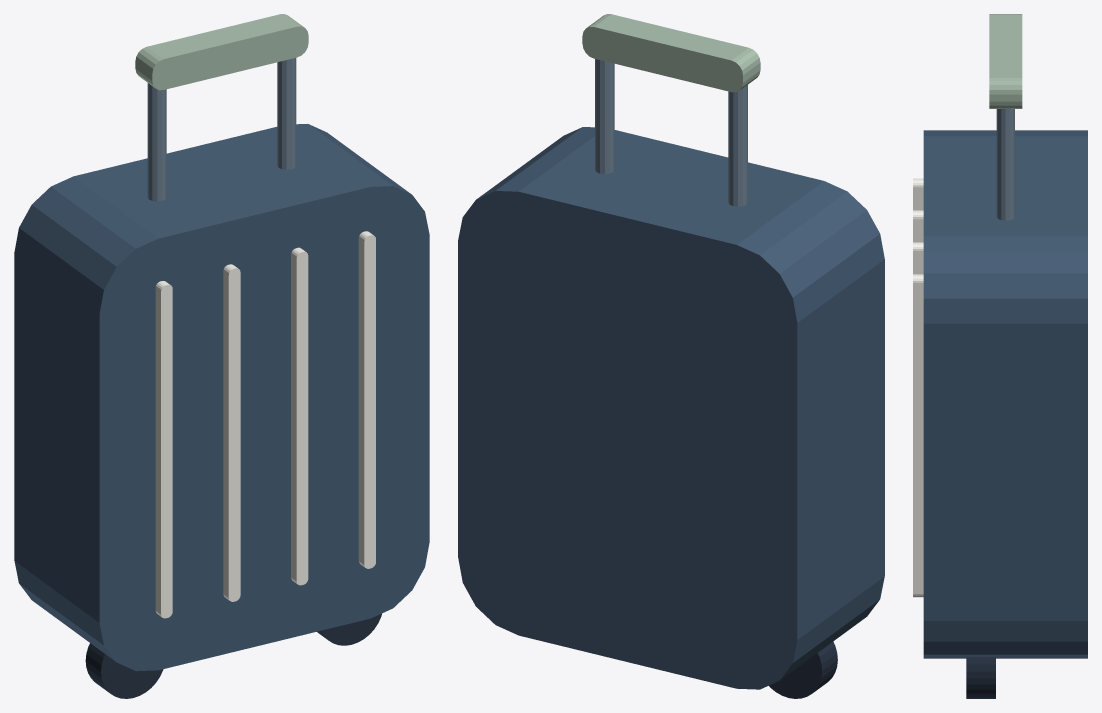
Rendered from suitcase.glb.
3 renders of one model, left to right at view 1: azimuth 30°, elevation 25°; view 2: azimuth 150°, elevation 25°; view 3: azimuth 270°, elevation 25°, orthographic. The views are drawn at different scales.
Parts seen in each view (by area): view 1: hard shell, handle grip, rib 1, rib 0, rib 2, rib 3, telescopic -0.22, telescopic 0.22, caster -0.37, caster 0.37; view 2: hard shell, handle grip, telescopic -0.22, telescopic 0.22, caster -0.37; view 3: hard shell, rib 3, handle grip, telescopic 0.22, caster 0.37, rib 0, rib 1, rib 2.
Boxes of the visible parts, box(x1,y1,x2,y2) form: hard shell: box(14, 124, 429, 671); handle grip: box(135, 14, 308, 90); rib 1: box(223, 264, 240, 601); rib 0: box(155, 281, 172, 618); rib 2: box(291, 247, 308, 585); rib 3: box(358, 231, 375, 568); telescopic -0.22: box(147, 83, 166, 201); telescopic 0.22: box(277, 58, 296, 169); caster -0.37: box(85, 643, 163, 698); caster 0.37: box(317, 613, 381, 645); hard shell: box(458, 127, 884, 689); handle grip: box(582, 14, 760, 92); telescopic -0.22: box(728, 85, 747, 206); telescopic 0.22: box(595, 59, 614, 174); caster -0.37: box(769, 641, 837, 698); hard shell: box(923, 130, 1087, 658); rib 3: box(913, 274, 923, 597); handle grip: box(989, 14, 1022, 108); telescopic 0.22: box(996, 108, 1014, 220); caster 0.37: box(966, 657, 995, 698); rib 0: box(913, 178, 923, 210); rib 1: box(913, 210, 923, 242); rib 2: box(913, 242, 923, 274).
Bounding box in the file's own units: 1.12 × 2.01 × 0.5325.
